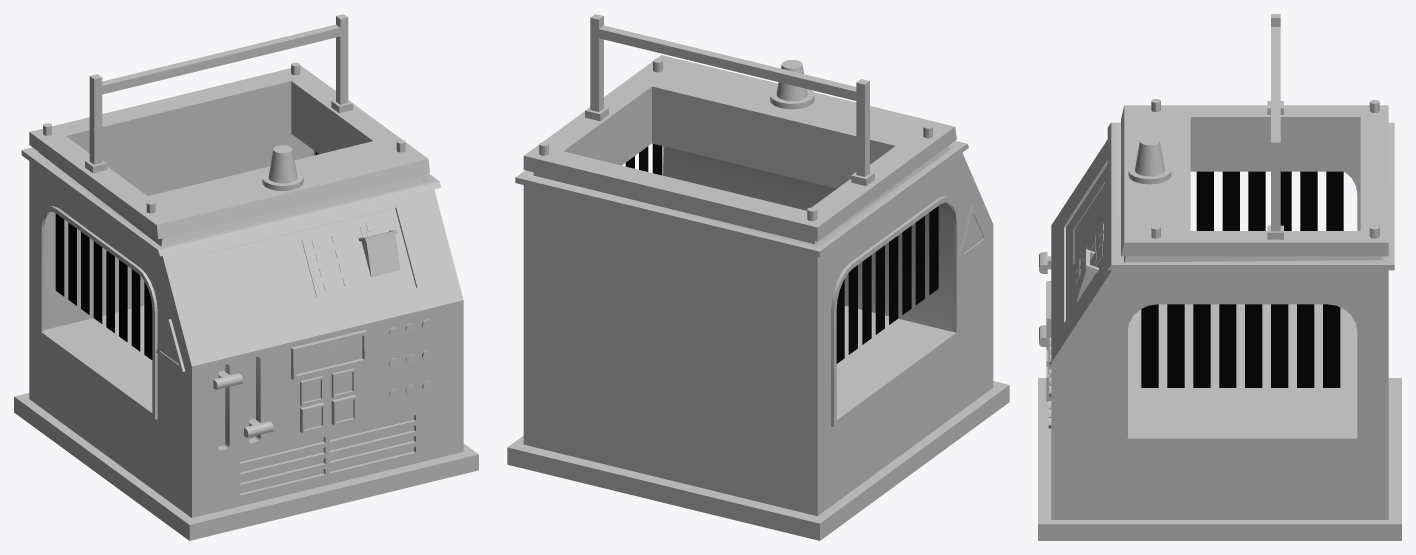
The model's file is Machn_v2_3.fbx.
3 renders of one model, left to right at view 1: azimuth 30°, elevation 25°; view 2: azimuth 150°, elevation 25°; view 3: azimuth 270°, elevation 25°, orthographic. The views are drawn at different scales.
Parts seen in each view (by area): view 1: Machn_v2_3, Plane_1.003, AlertOrange.012; view 2: Machn_v2_3, Plane_1.003, AlertOrange.012, Plane_2.003; view 3: Machn_v2_3, Plane_2.003, Plane_1.003, AlertOrange.012.
Part boxes in pixels (x1,y1,x2,y2): Machn_v2_3: (14,14,478,540); Plane_1.003: (55,213,152,359); AlertOrange.012: (262,145,303,190); Machn_v2_3: (507,14,1009,540); Plane_1.003: (836,206,938,363); AlertOrange.012: (770,60,814,109); Plane_2.003: (625,144,661,175); Machn_v2_3: (1038,14,1401,540); Plane_2.003: (1141,304,1340,387); Plane_1.003: (1196,171,1343,230); AlertOrange.012: (1128,137,1171,184).
Bounding box in the file's own units: 263 × 326 × 276.
